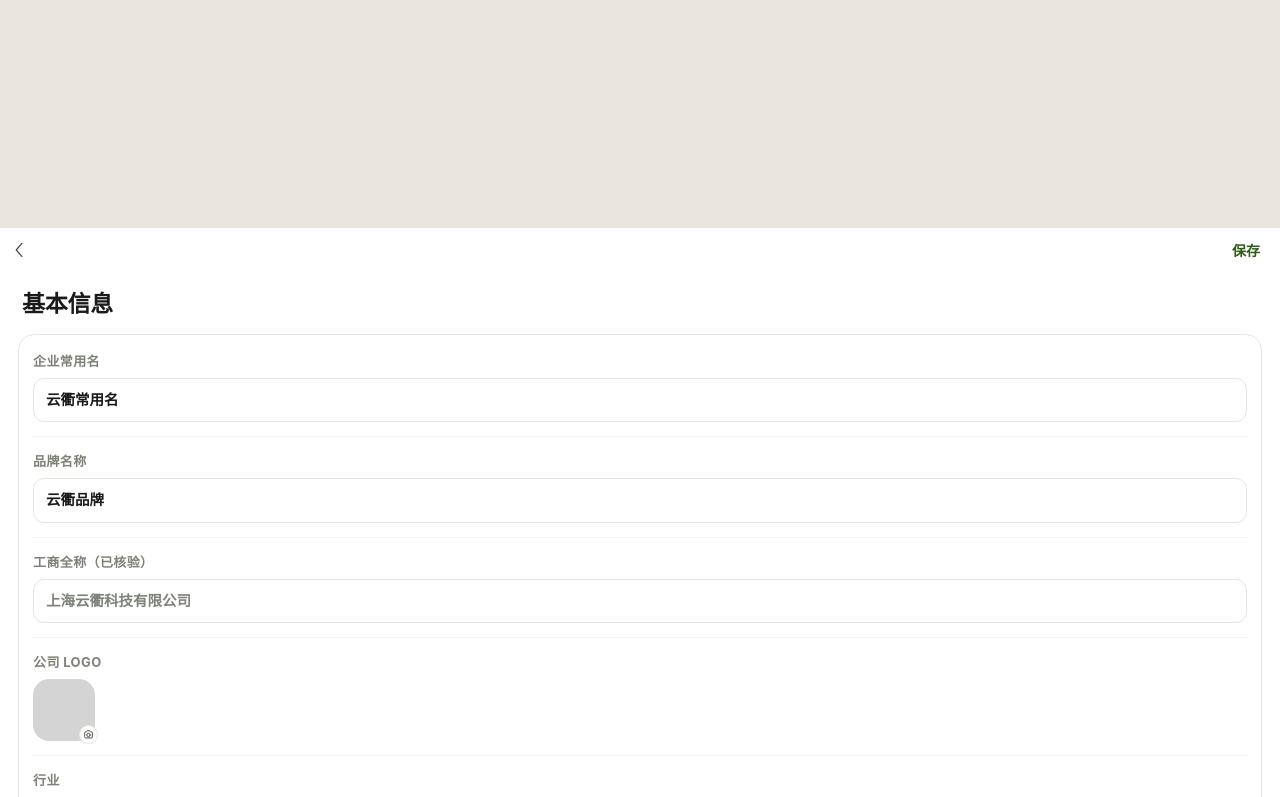
Test: 公司档案分区编辑 · Backend 完整 replacement › 常用名显式清空按常用名校验拒绝且不发请求，输入保留
The image size is (1280, 797).
(page scrolled)
Clear the field named "企业常用名" at (640, 400), box [33, 378, 1247, 422]
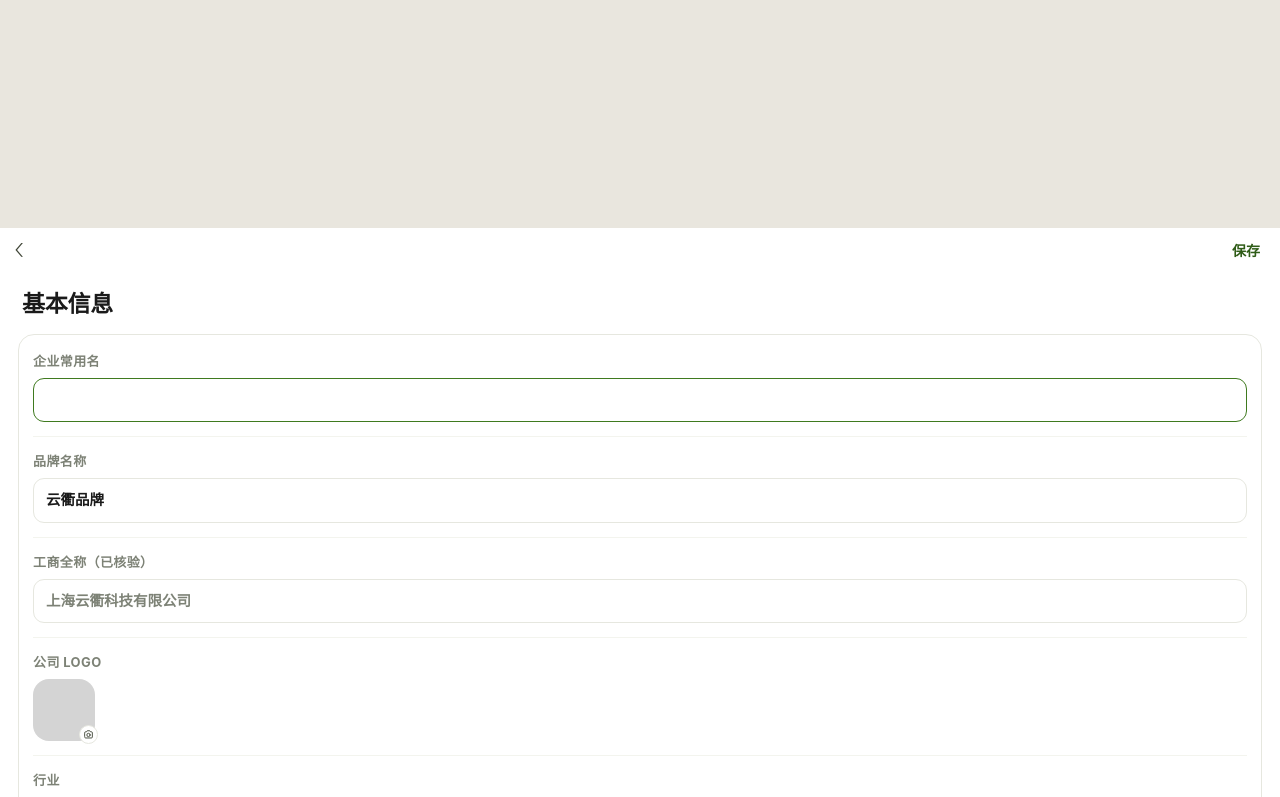
Click the button "保存" at (1242, 250), box [1222, 234, 1262, 266]
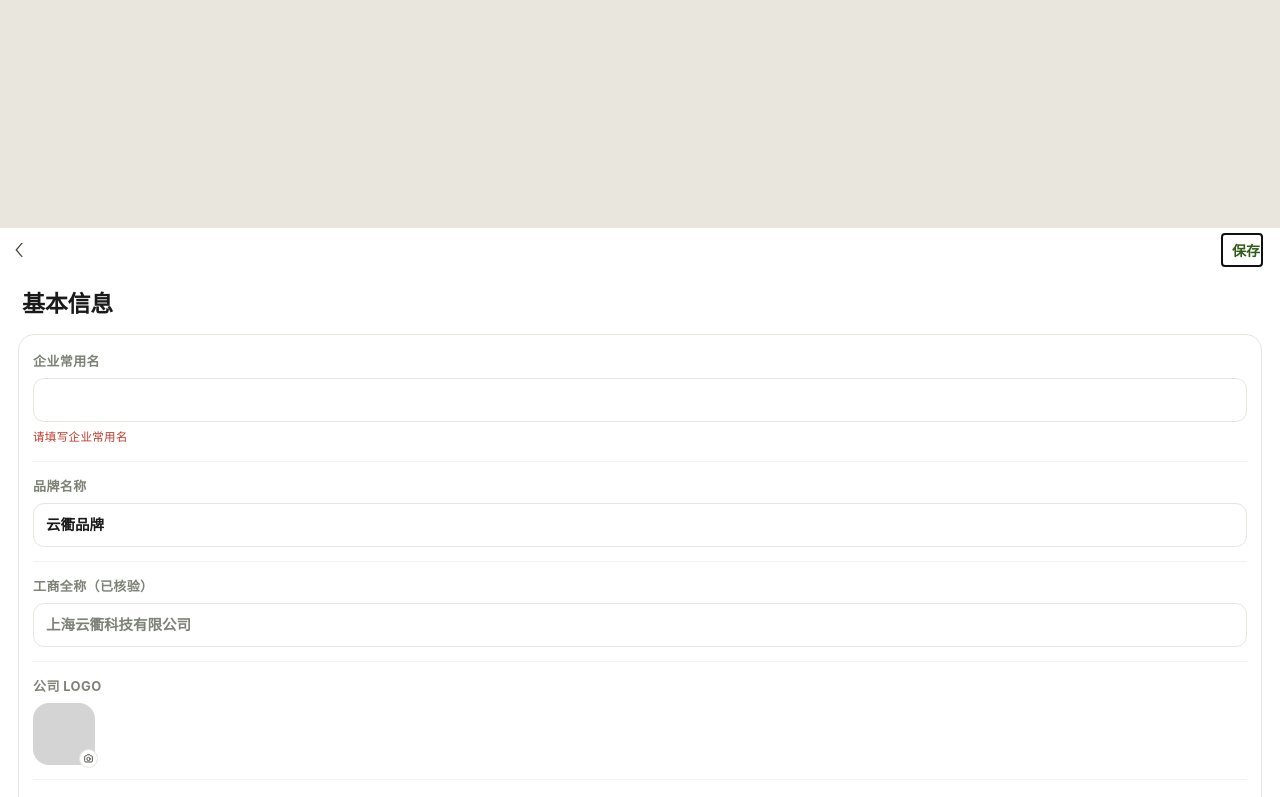
Check: the text "请填写企业常用名" is shown, box [33, 430, 128, 444]
